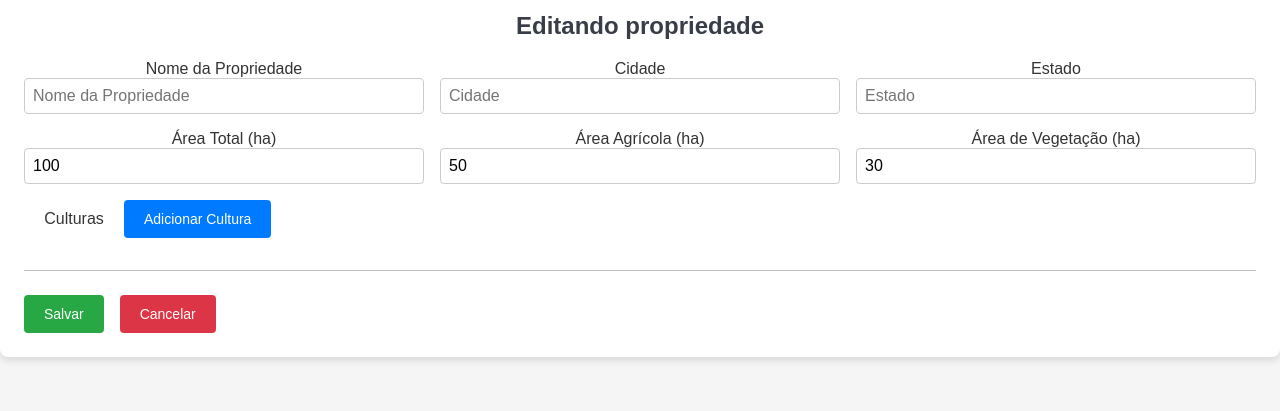
Test: Formulário de Edição de Propriedade › deve exibir um erro se a área total for menor que a soma das áreas agrícola e de vegetação
The width and height of the screenshot is (1280, 411).
Replace the text in the number field labelled "Área Total (ha)" with "70" at (224, 166), box [24,148,424,184]
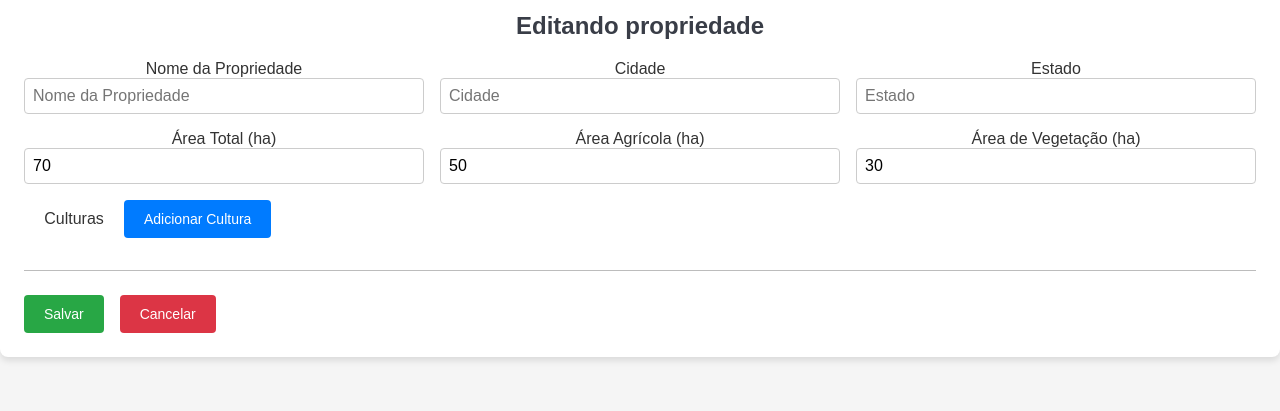
Leave the number field labelled "Área Total (ha)", box [24,148,424,184]
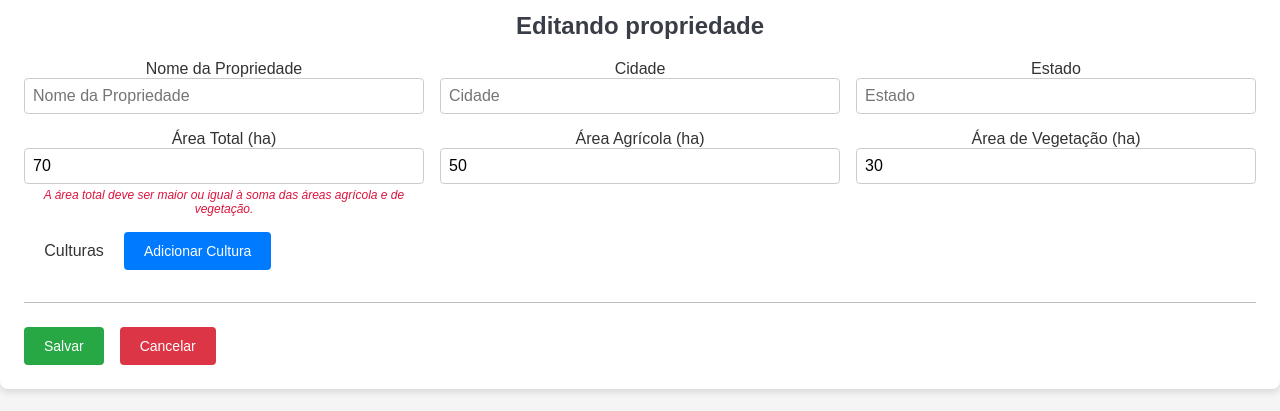
Now the text "A área total deve ser maior ou igual à soma das áreas agrícola e de vegetação." is shown, box [24,188,424,216]
